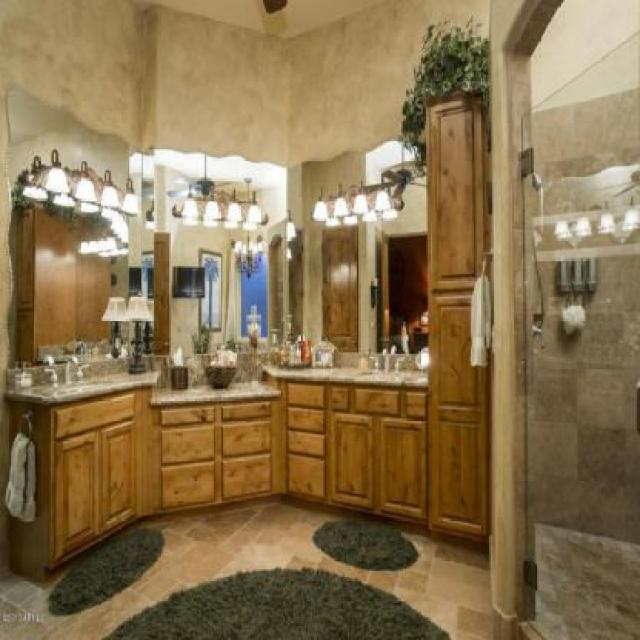Floor: (1, 503, 493, 639), (535, 523, 639, 639)
